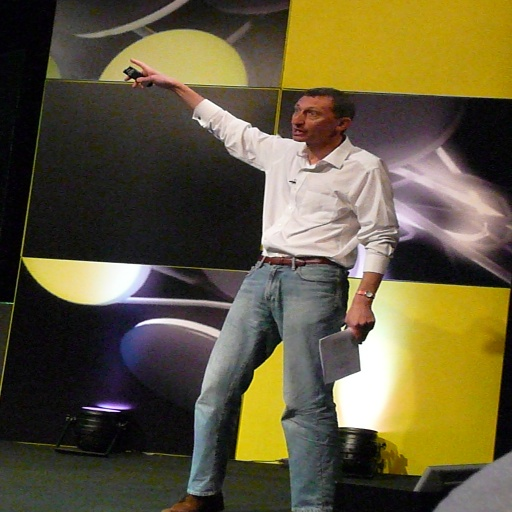hand: (125, 51, 210, 100), (344, 305, 377, 344)
